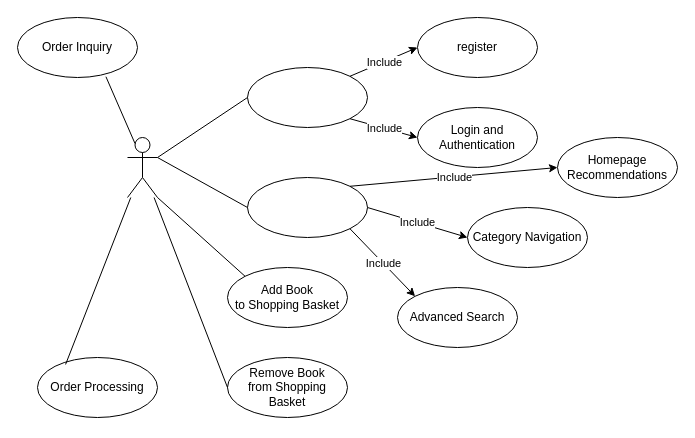
The diagram is 695 pixels wide and 438 high, and some of its shapes have lost their labels. Here are the shapes that lost their labels. From the top down, the centre of each, then its label:
At (307,97): "User Account Management".
At (142,167): "User".
At (307,207): "Book Browsing & Searching".
